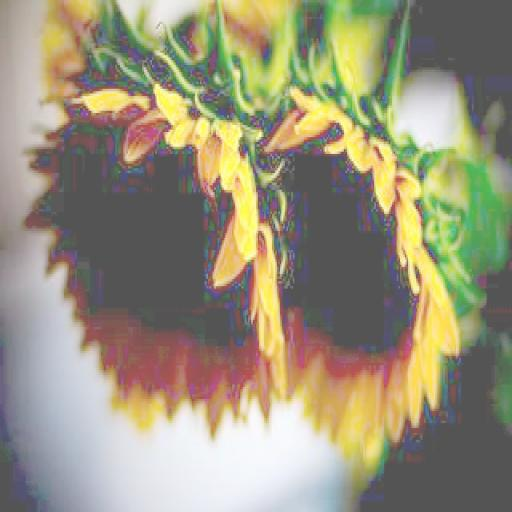sunflower: (18, 10, 280, 430), (262, 84, 476, 462)
